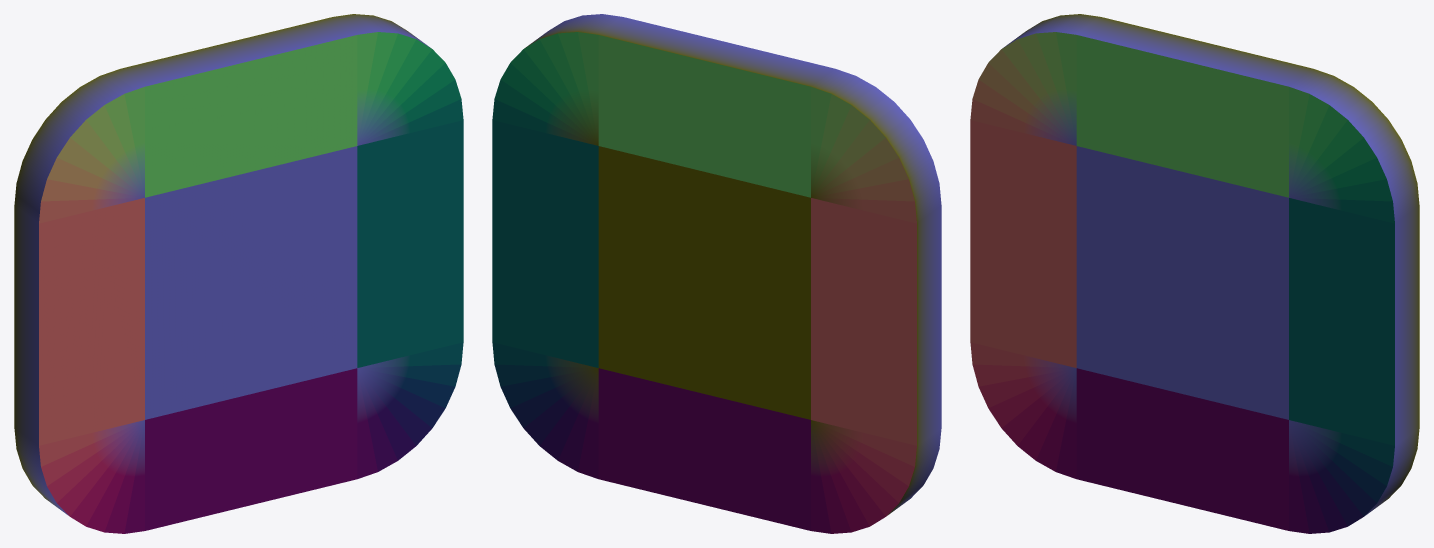
The model's file is SM_RoundedCorner.glb.
3 renders of one model, left to right at view 1: azimuth 30°, elevation 25°; view 2: azimuth 150°, elevation 25°; view 3: azimuth 330°, elevation 25°, orthographic.
Parts seen in each view (by area): view 1: MDL_RoundedCornerPanel__5_; view 2: MDL_RoundedCornerPanel__5_; view 3: MDL_RoundedCornerPanel__5_.
Part boxes in pixels (bbox=[...]): MDL_RoundedCornerPanel__5_: bbox=[14, 14, 463, 533]; MDL_RoundedCornerPanel__5_: bbox=[492, 14, 941, 533]; MDL_RoundedCornerPanel__5_: bbox=[970, 14, 1419, 533].
Size of the model in its own units: 1 by 1 by 0.1.
